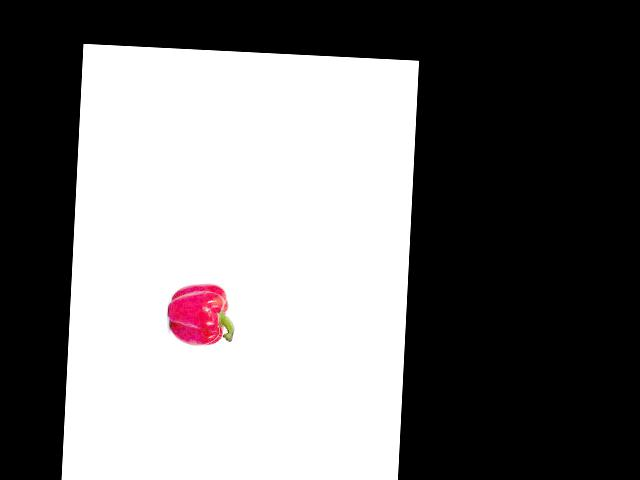bell_pepper: (166, 278, 237, 349)
